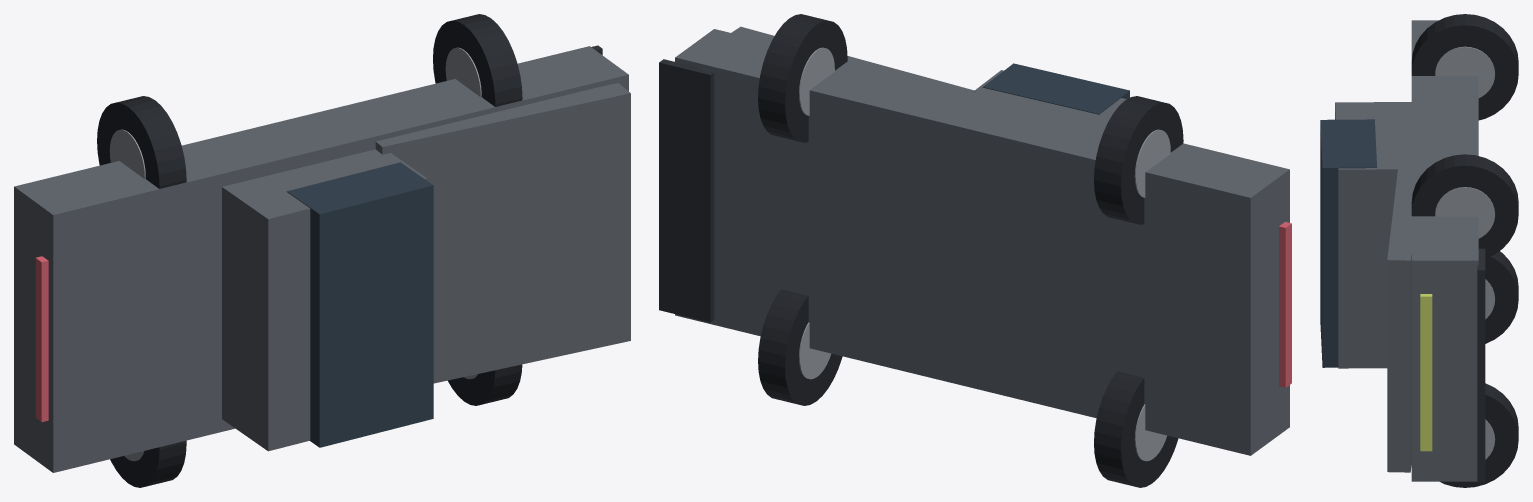
File: roadster.glb
3 renders of one model, left to right at view 1: azimuth 30°, elevation 25°; view 2: azimuth 150°, elevation 25°; view 3: azimuth 270°, elevation 25°, orthographic. The views are drawn at different scales.
Parts seen in each view (by area): view 1: part0, part1, part3, part2, part6, part10, part13, part4, part8, part11, part7; view 2: part0, part14, part10, part6, part4, part8, part3, part13, part2, part7, part11, part5 (+2 smaller); view 3: part0, part2, part1, part3, part6, part10, part8, part4, part14, part12, part7, part11 (+2 smaller).
Part boxes in pixels (<box>): part0: <box>14,46,628,472</box>; part1: <box>375,83,630,383</box>; part3: <box>286,162,433,447</box>; part2: <box>222,149,427,451</box>; part6: <box>97,96,186,188</box>; part10: <box>433,14,522,106</box>; part13: <box>35,256,48,421</box>; part4: <box>110,440,186,487</box>; part8: <box>448,364,522,405</box>; part11: <box>445,47,481,97</box>; part7: <box>109,129,145,178</box>; part0: <box>675,29,1289,455</box>; part14: <box>659,59,714,322</box>; part10: <box>758,14,847,142</box>; part6: <box>1094,96,1183,224</box>; part4: <box>1094,371,1178,487</box>; part8: <box>758,289,842,405</box>; part3: <box>982,63,1129,114</box>; part13: <box>1279,222,1291,387</box>; part2: <box>975,70,1126,124</box>; part7: <box>1134,129,1170,197</box>; part11: <box>799,47,834,115</box>; part5: <box>1134,404,1166,461</box>; part0: <box>1411,20,1478,481</box>; part2: <box>1335,102,1411,368</box>; part1: <box>1387,159,1411,472</box>; part3: <box>1320,119,1376,367</box>; part6: <box>1411,14,1518,120</box>; part10: <box>1411,154,1518,258</box>; part8: <box>1440,383,1518,487</box>; part4: <box>1485,251,1518,343</box>; part14: <box>1477,248,1485,482</box>; part12: <box>1420,294,1432,451</box>; part7: <box>1435,46,1494,97</box>; part11: <box>1435,187,1495,238</box>.
Size of the model in its own units: 4.39 by 2.66 by 1.48.
